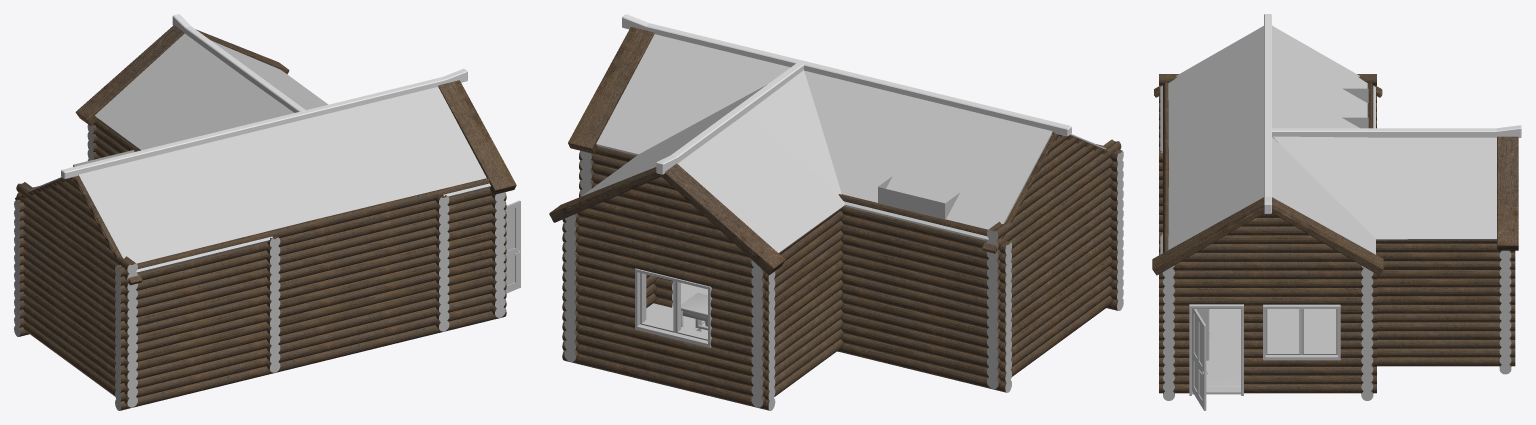
The model's file is start home.fbx.
The picture shows the model from 3 angles, left to right: view 1: azimuth 30°, elevation 25°; view 2: azimuth 150°, elevation 25°; view 3: azimuth 270°, elevation 25°; orthographic projection. The views are drawn at different scales.
Visible parts, largest first — view 1: back wall_dark, outside roof.001, outside roof, back wall_lights, arch roof, greben, door.004; view 2: back wall_dark, outside roof.001, outside roof, arch roof, back wall_lights, greben, window.001, camin, floor, Medival Table; view 3: back wall_dark, outside roof.001, outside roof, arch roof, floor, back wall_lights, greben, window wood, door.004, door arch, small carpet, camin.
Part boxes in pixels (x1=…): back wall_dark: x1=15, y1=119, x2=506, y2=410; outside roof.001: x1=30, y1=87, x2=490, y2=273; outside roof: x1=95, y1=33, x2=328, y2=150; back wall_lights: x1=14, y1=124, x2=505, y2=410; arch roof: x1=15, y1=25, x2=516, y2=285; greben: x1=61, y1=14, x2=467, y2=179; door.004: x1=505, y1=200, x2=520, y2=293; back wall_dark: x1=562, y1=134, x2=1121, y2=410; outside roof.001: x1=596, y1=34, x2=1106, y2=240; outside roof: x1=581, y1=70, x2=844, y2=253; arch roof: x1=549, y1=27, x2=1111, y2=274; back wall_lights: x1=564, y1=150, x2=1123, y2=410; greben: x1=622, y1=14, x2=1071, y2=174; window.001: x1=635, y1=268, x2=711, y2=347; camin: x1=878, y1=176, x2=959, y2=219; floor: x1=646, y1=283, x2=707, y2=333; Medival Table: x1=681, y1=293, x2=707, y2=331; back wall_dark: x1=1159, y1=74, x2=1515, y2=394; outside roof.001: x1=1160, y1=26, x2=1375, y2=254; outside roof: x1=1273, y1=136, x2=1496, y2=240; arch roof: x1=1152, y1=86, x2=1518, y2=275; floor: x1=1206, y1=309, x2=1335, y2=388; back wall_lights: x1=1163, y1=250, x2=1511, y2=400; greben: x1=1264, y1=14, x2=1521, y2=213; window wood: x1=1263, y1=304, x2=1340, y2=360; door.004: x1=1192, y1=309, x2=1207, y2=410; door arch: x1=1189, y1=304, x2=1243, y2=395; small carpet: x1=1206, y1=370, x2=1240, y2=386; camin: x1=1342, y1=88, x2=1368, y2=128.
Bounding box in the file's own units: 2502 × 1164 × 1913.
